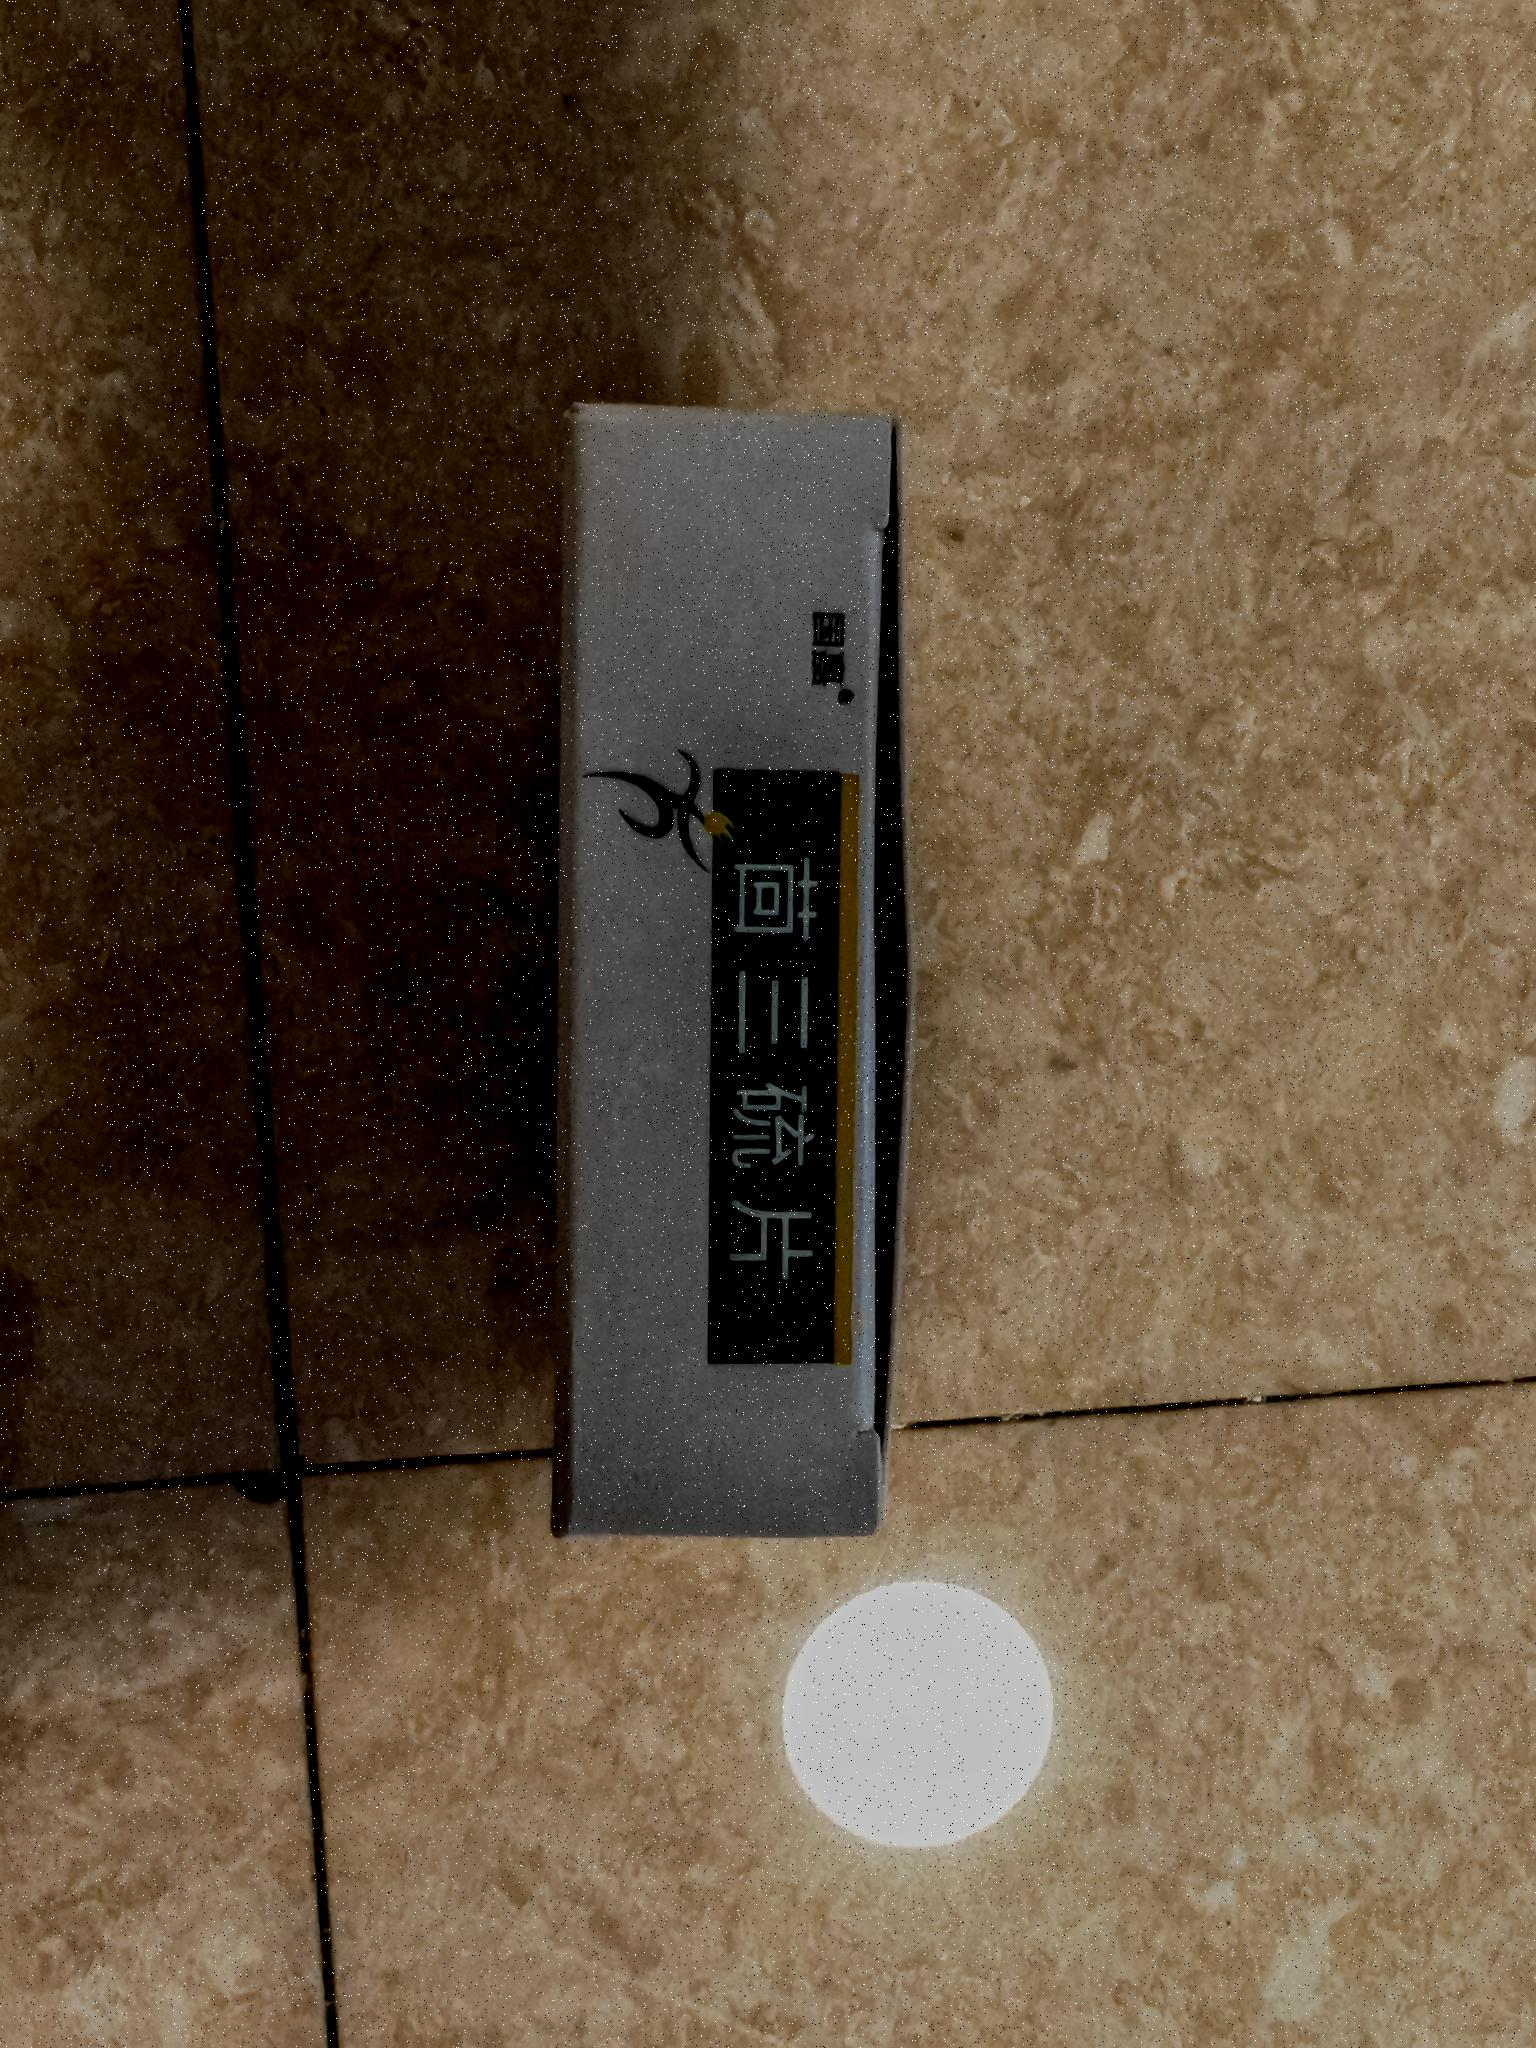Medicine4: (528, 373, 925, 1600)
